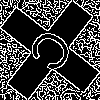C: (25, 25, 84, 82)
